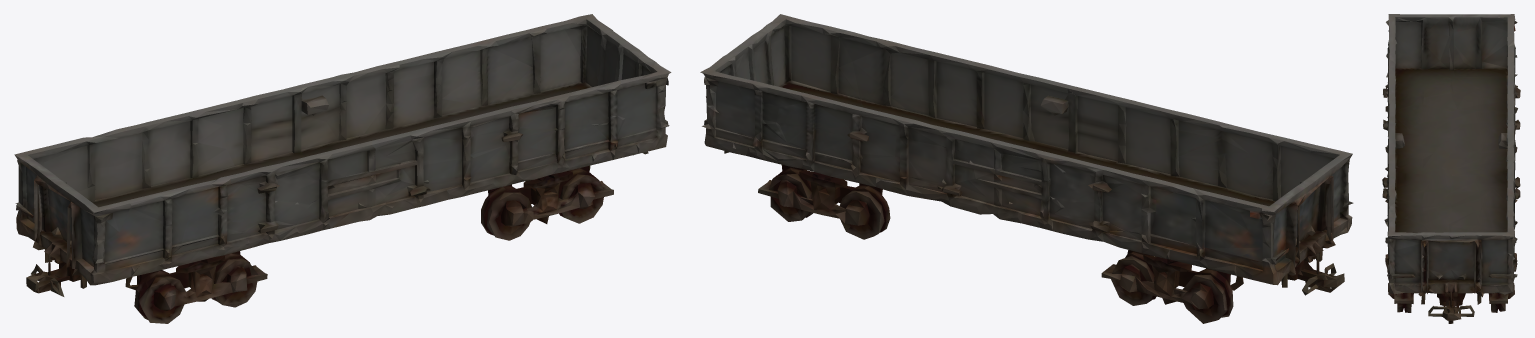
Rendered from gondola_wagon.10dc5b4de2.glb.
The picture shows the model from 3 angles, left to right: view 1: azimuth 30°, elevation 25°; view 2: azimuth 150°, elevation 25°; view 3: azimuth 270°, elevation 25°; orthographic projection. The views are drawn at different scales.
Parts seen in each view (by area): view 1: gondola_wagon; view 2: gondola_wagon; view 3: gondola_wagon.
Boxes of the visible parts, x1,y1,x2,y2 form: gondola_wagon: (14, 14, 671, 323); gondola_wagon: (700, 14, 1353, 323); gondola_wagon: (1382, 14, 1520, 323).
Bounding box in the file's own units: 13.5 × 2.82 × 3.29.
Materials: 1 (1 with a texture image).
